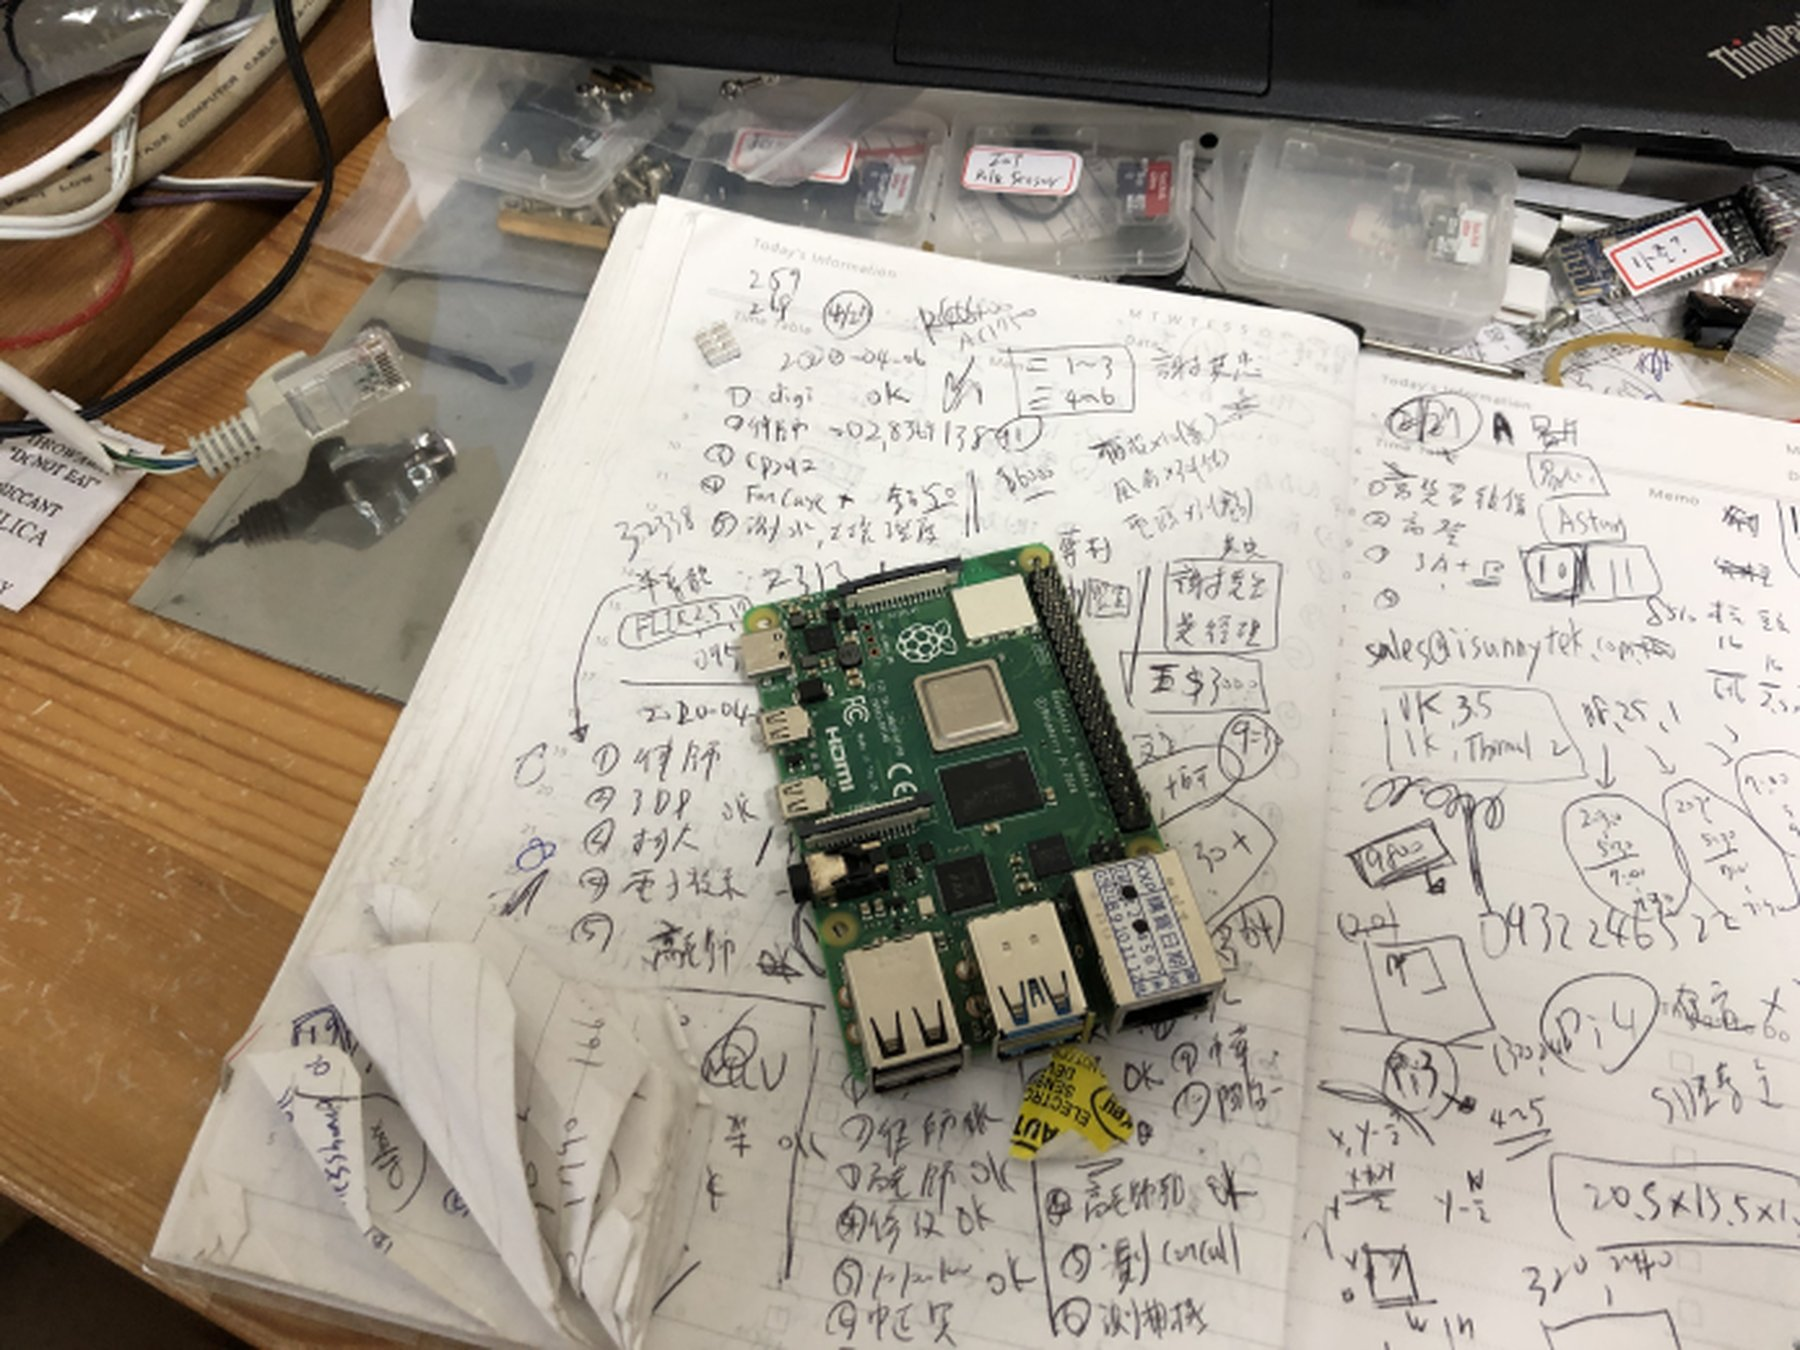pi: (719, 530, 1237, 1098)
